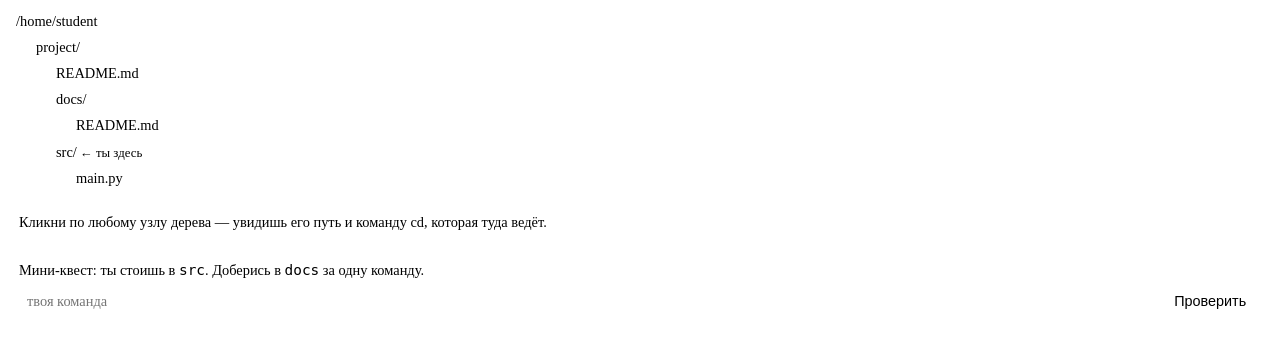
it: квест: неверная команда и подсказки для cd .. и абсолютного пути
Type "cd nope" into the field named "Команда для квеста" at (586, 302), box [19,287,1153,316]
Click the button "Проверить" at (1210, 302), box [1161,287,1259,316]
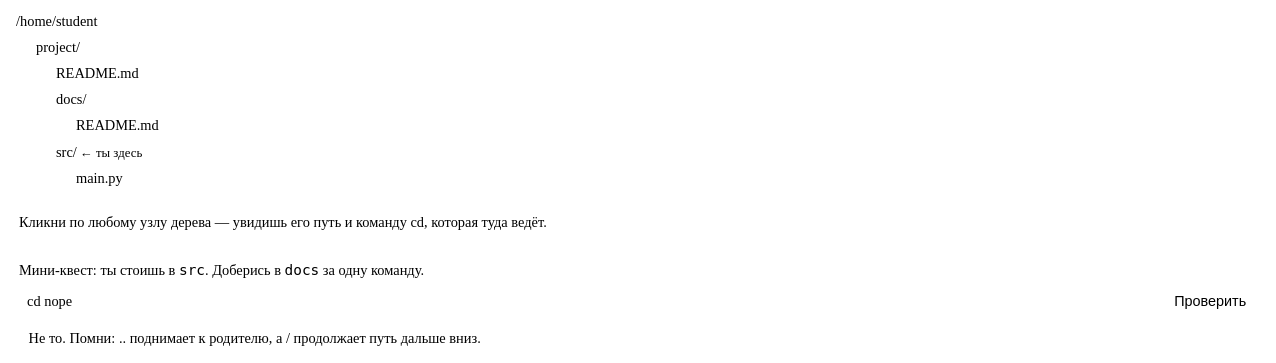
Check: the text "Не то" is shown, box [29,330,481,346]
Replace the text in the field named "Команда для квеста" with "cd docs" at (586, 302), box [19,287,1153,316]
Click the button "Проверить" at (1210, 302), box [1161,287,1259,316]
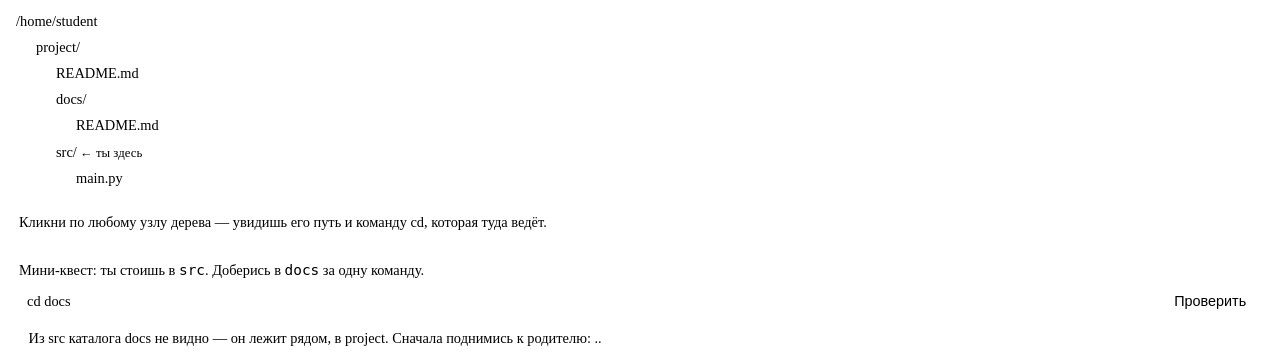
Check: the text "Из src каталога docs не видно" is shown, box [29,330,602,346]
Replace the text in the field named "Команда для квеста" with "cd .." at (586, 302), box [19,287,1153,316]
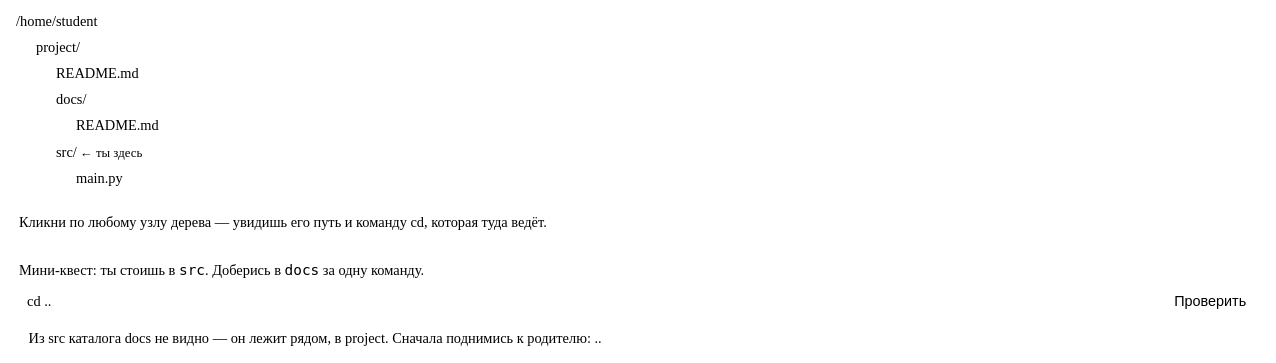
Click the button "Проверить" at (1210, 302), box [1161,287,1259,316]
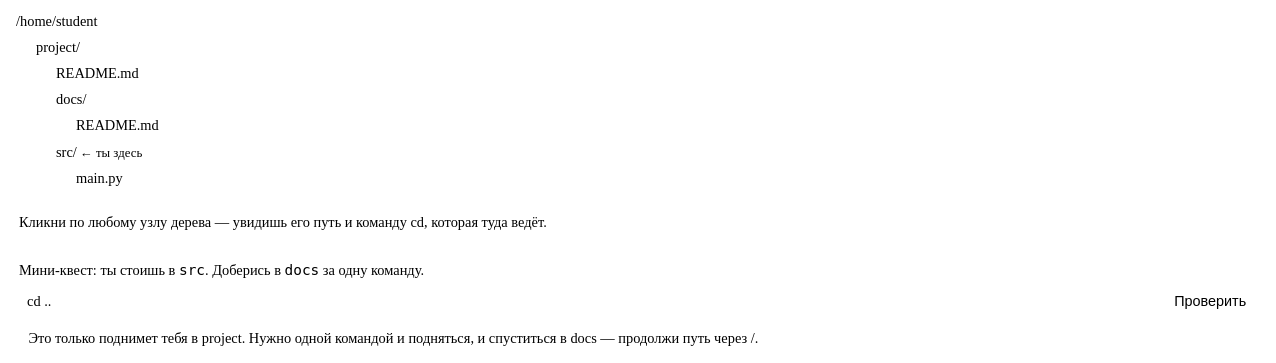
Check: the text "только поднимет тебя в project" is shown, box [29,330,758,346]
Replace the text in the field named "Команда для квеста" with "cd /home/student/project/docs" at (586, 302), box [19,287,1153,316]
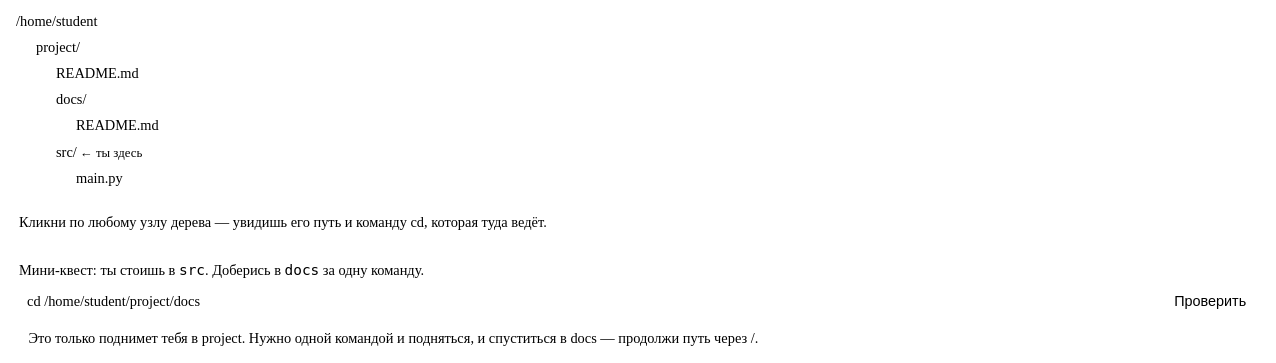
Click the button "Проверить" at (1210, 302), box [1161,287,1259,316]
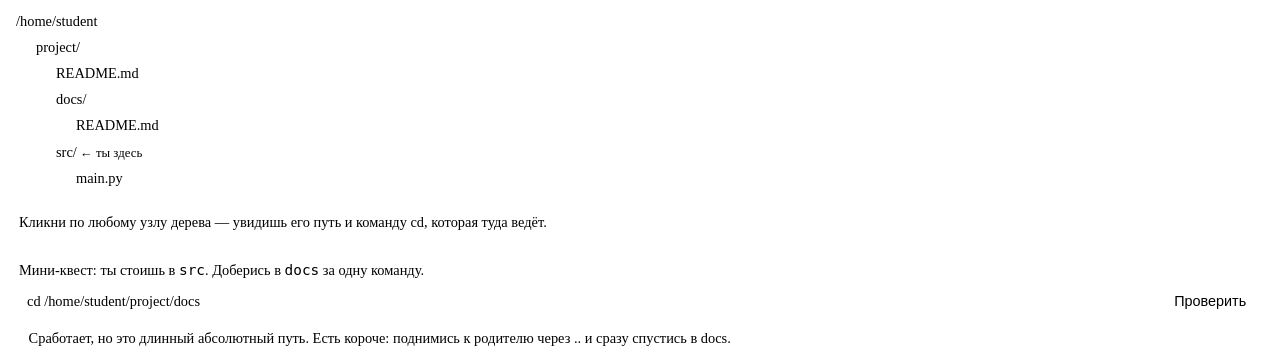
Check: the text "Сработает, но это длинный абсолютный путь" is shown, box [29,330,731,346]
